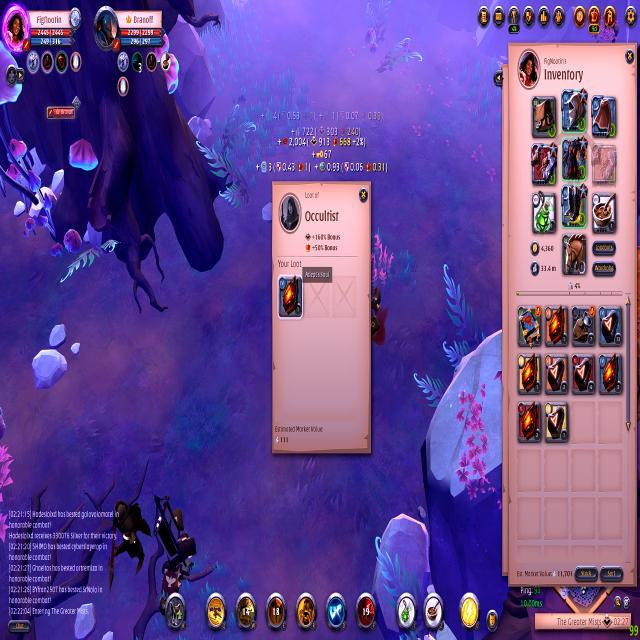ore: (104, 494, 154, 591)
